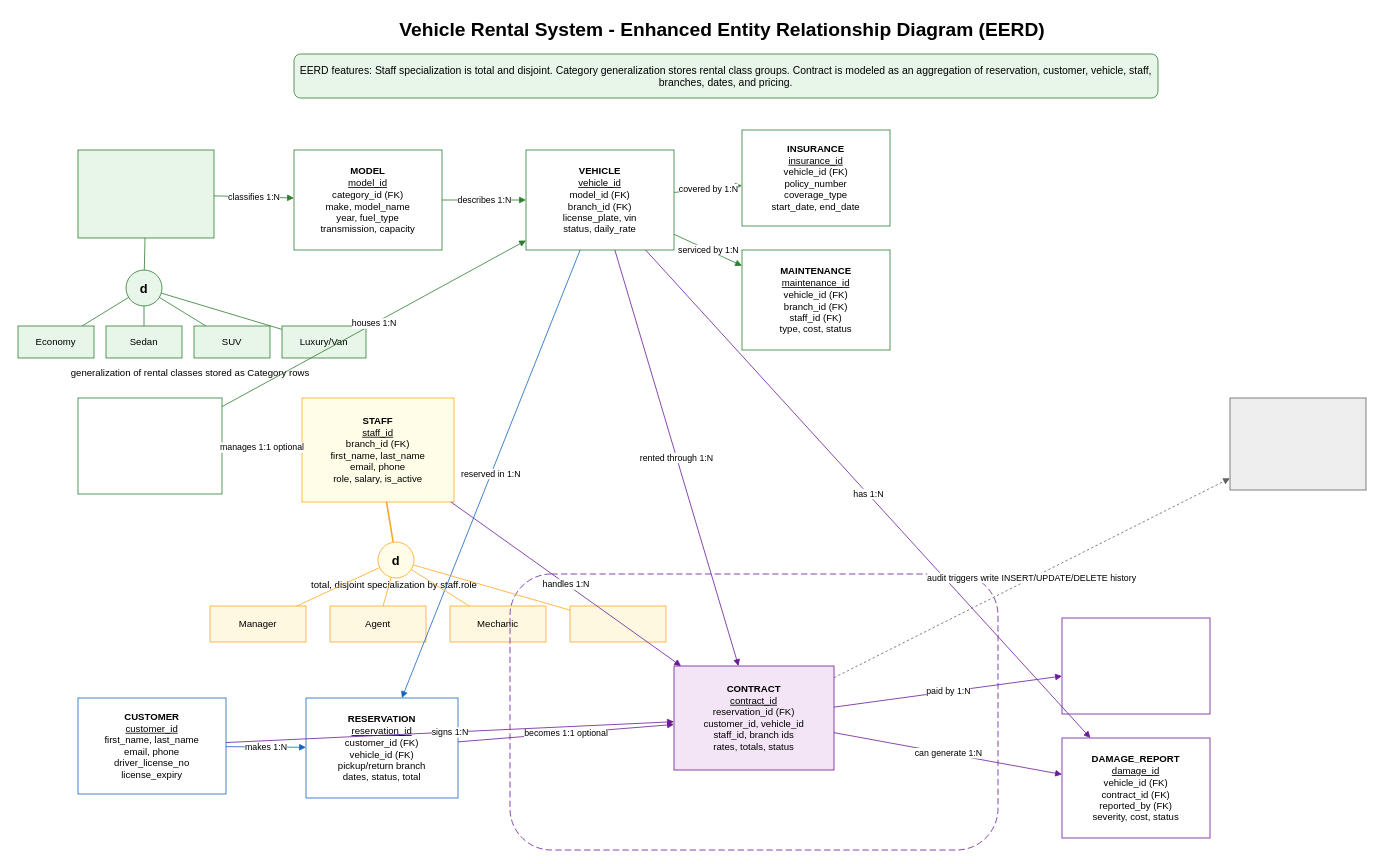
The diagram is 1380 pixels wide and 864 high, and some of its shapes have lost their labels. Here are the shapes that lost their labels. From the top down, the box of each, then its label:
(77, 149, 214, 238): CATEGORY category_id name description base_daily_rate
(77, 397, 222, 494): BRANCH branch_id name address, city phone, email manager_id (FK)
(1229, 397, 1366, 490): AUDIT_LOG log_id table_name operation record_id old_data, new_data
(569, 605, 666, 642): Cleaner
(1061, 617, 1210, 714): PAYMENT payment_id contract_id (FK) amount payment_method status, transaction_id
(509, 573, 998, 850): Rental Transaction Aggregation
